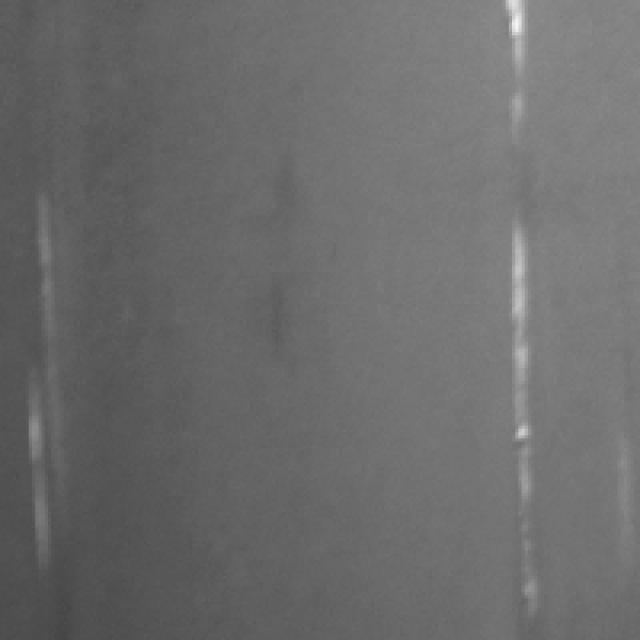scratches: (501, 0, 542, 626), (24, 200, 58, 590)
